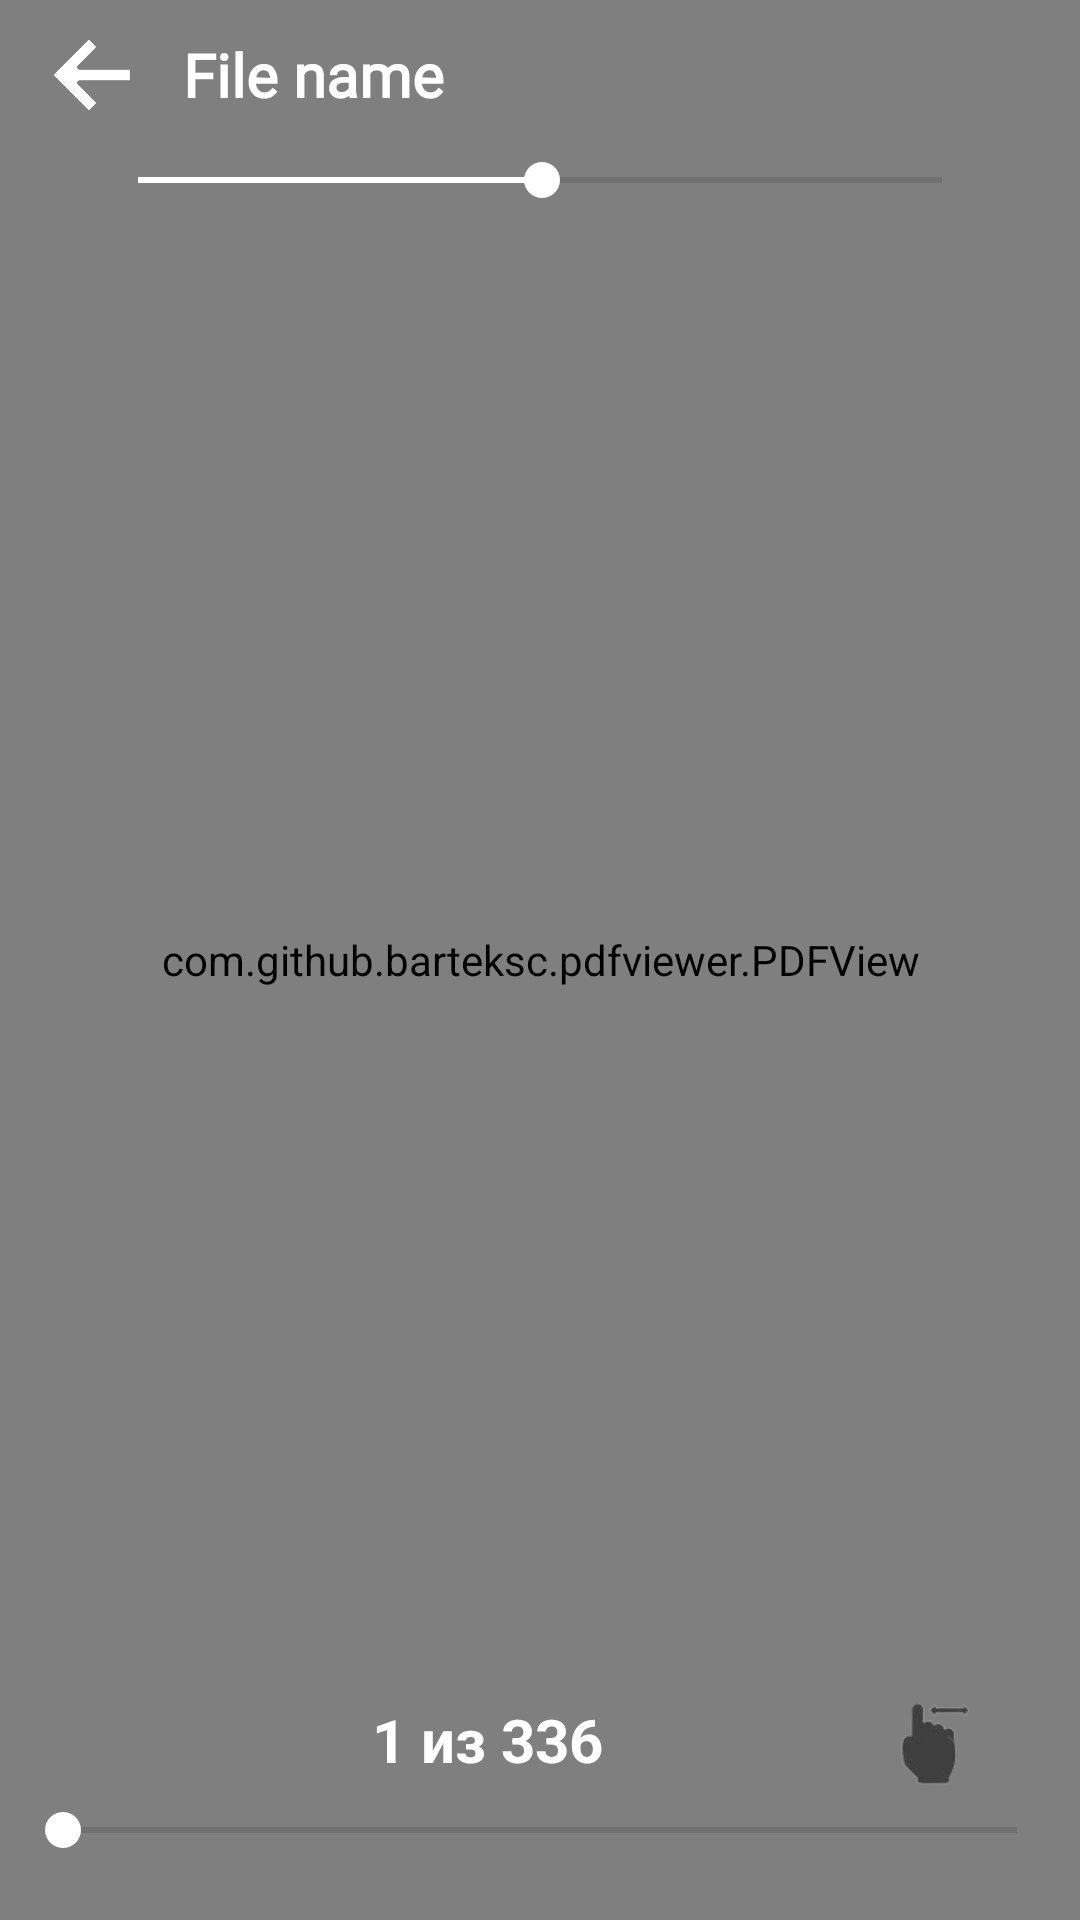

Named icons in this screenshot (1080px×1920px) and their centers, [x,y]:
arror back: [92,75]
swipe: [935,1743]
